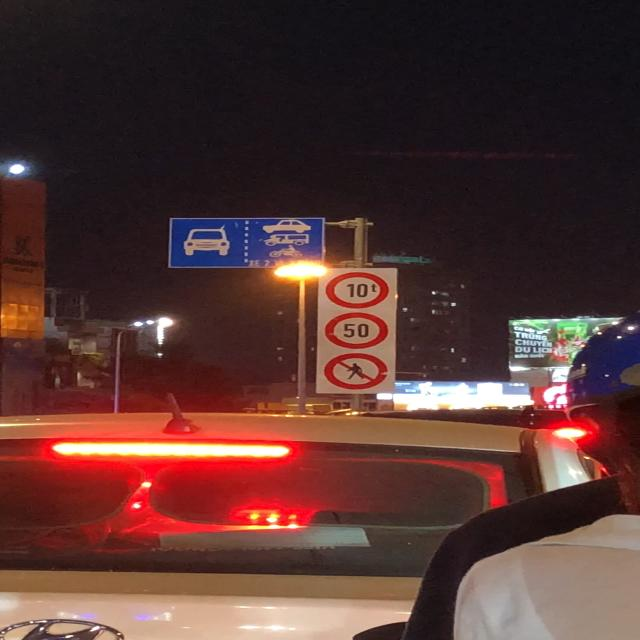Bien bao cam nguoi di bo: (323, 352, 390, 391)
Bien bao toc do toi da cho phep: (325, 312, 390, 349)
